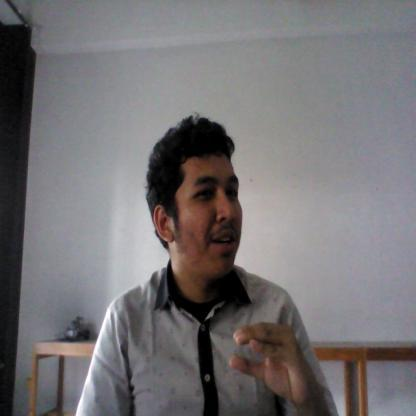Pagi: (226, 316, 320, 408)
